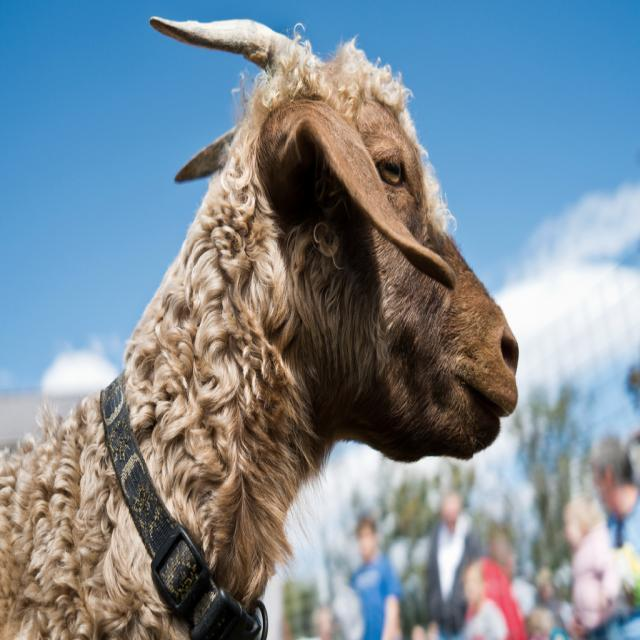Goat: (1, 14, 520, 638)
